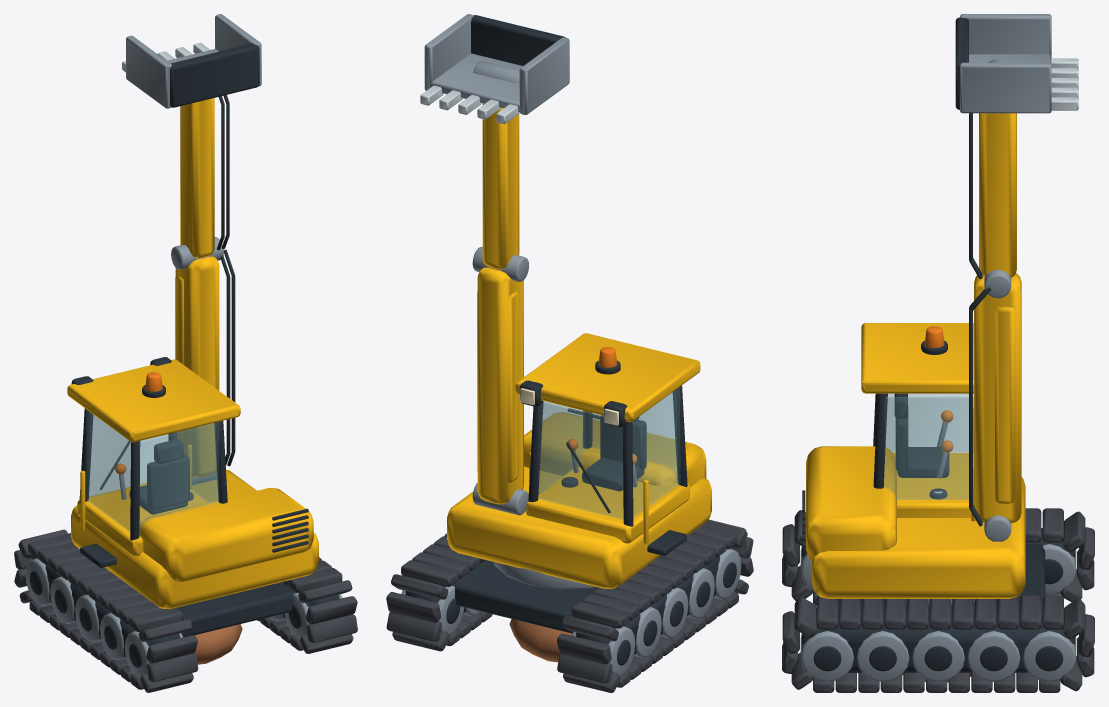
Rendered from excavator.glb.
3 views of the same model, side by side, from view 1: azimuth 30°, elevation 25°; view 2: azimuth 150°, elevation 25°; view 3: azimuth 270°, elevation 25° (orthographic). The views are drawn at different scales.
Visible parts, largest first — view 1: body, side glazing, engine vent, boom casting, hub, stick casting, bucket back, track roller, bucket cheek, hydraulic hose, hydraulic hose.006, material load (+11 smaller); view 2: body, side glazing, boom casting, hub, bucket cheek, engine vent, stick casting, track roller, bucket back, tooth, material load, joystick (+16 smaller); view 3: body, boom casting, track roller, side glazing, bucket cheek, hub, stick casting, engine vent, tooth, hydraulic hose, bucket back, tread.041 (+22 smaller).
Part boxes in pixels (x1,y1,x2,y2): body: (67, 359, 318, 609); side glazing: (86, 410, 219, 531); engine vent: (71, 357, 308, 567); boom casting: (175, 256, 219, 477); hub: (29, 556, 339, 667); stick casting: (180, 98, 214, 258); bucket back: (170, 43, 259, 107); track roller: (25, 558, 342, 677); bucket cheek: (126, 14, 261, 108); hydraulic hose: (220, 249, 235, 466); hydraulic hose.006: (216, 95, 229, 250); material load: (193, 624, 242, 664); body: (447, 333, 711, 588); side glazing: (538, 387, 680, 519); boom casting: (477, 267, 523, 504); hub: (405, 547, 736, 665); bucket cheek: (424, 14, 569, 114); engine vent: (520, 380, 687, 555); stick casting: (482, 103, 519, 269); track roller: (401, 548, 741, 675); bucket back: (471, 15, 565, 65); tooth: (420, 85, 519, 124); material load: (509, 619, 572, 662); joystick: (493, 450, 637, 589); body: (806, 323, 1025, 598); boom casting: (974, 273, 1021, 523); track roller: (800, 528, 1076, 681); side glazing: (884, 394, 973, 499); bucket cheek: (960, 14, 1051, 113); hub: (802, 528, 1074, 672); stick casting: (979, 113, 1016, 277); engine vent: (802, 393, 949, 548); tooth: (1051, 58, 1078, 110); hydraulic hose: (969, 287, 991, 526); bucket back: (955, 17, 968, 109); tread.041: (794, 597, 816, 637).
Bounding box in the file's own units: 3.36 × 9.13 × 3.95.
